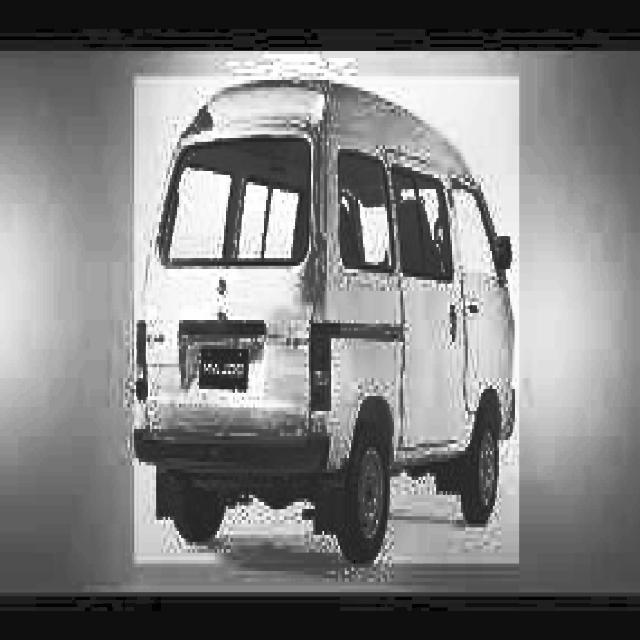LCV: (132, 77, 519, 568)
